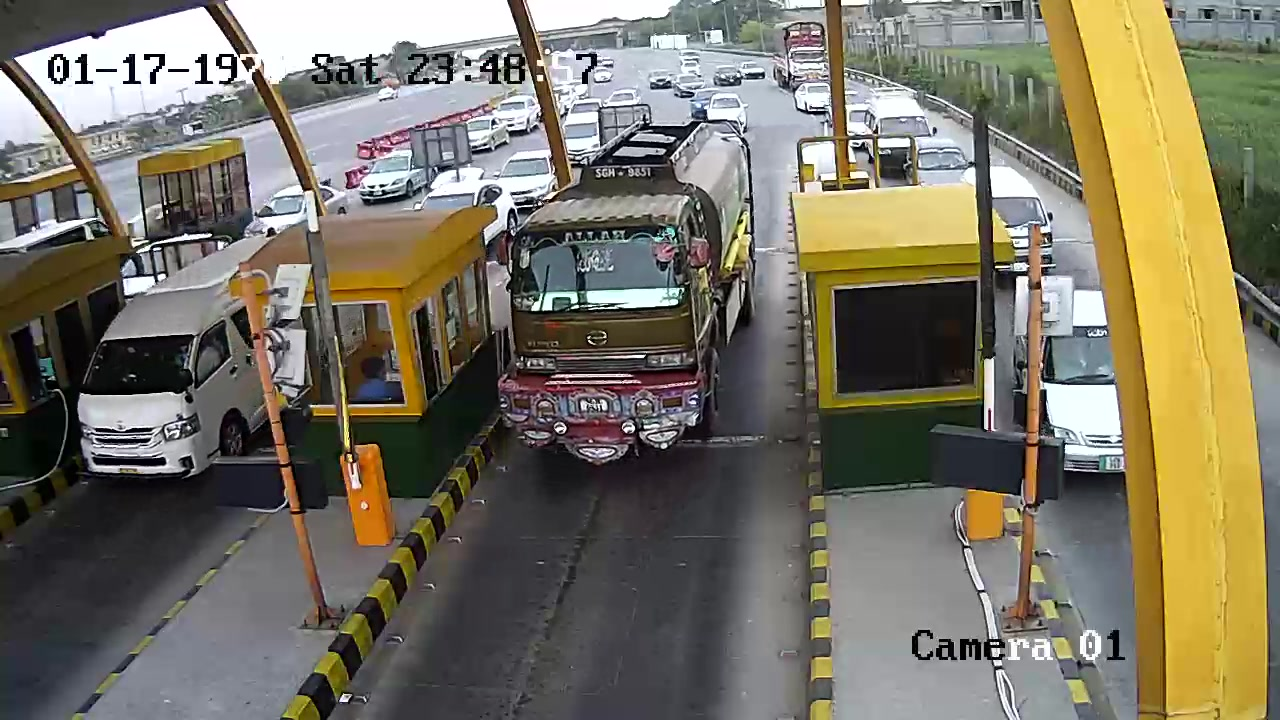F5: (496, 110, 758, 468)
